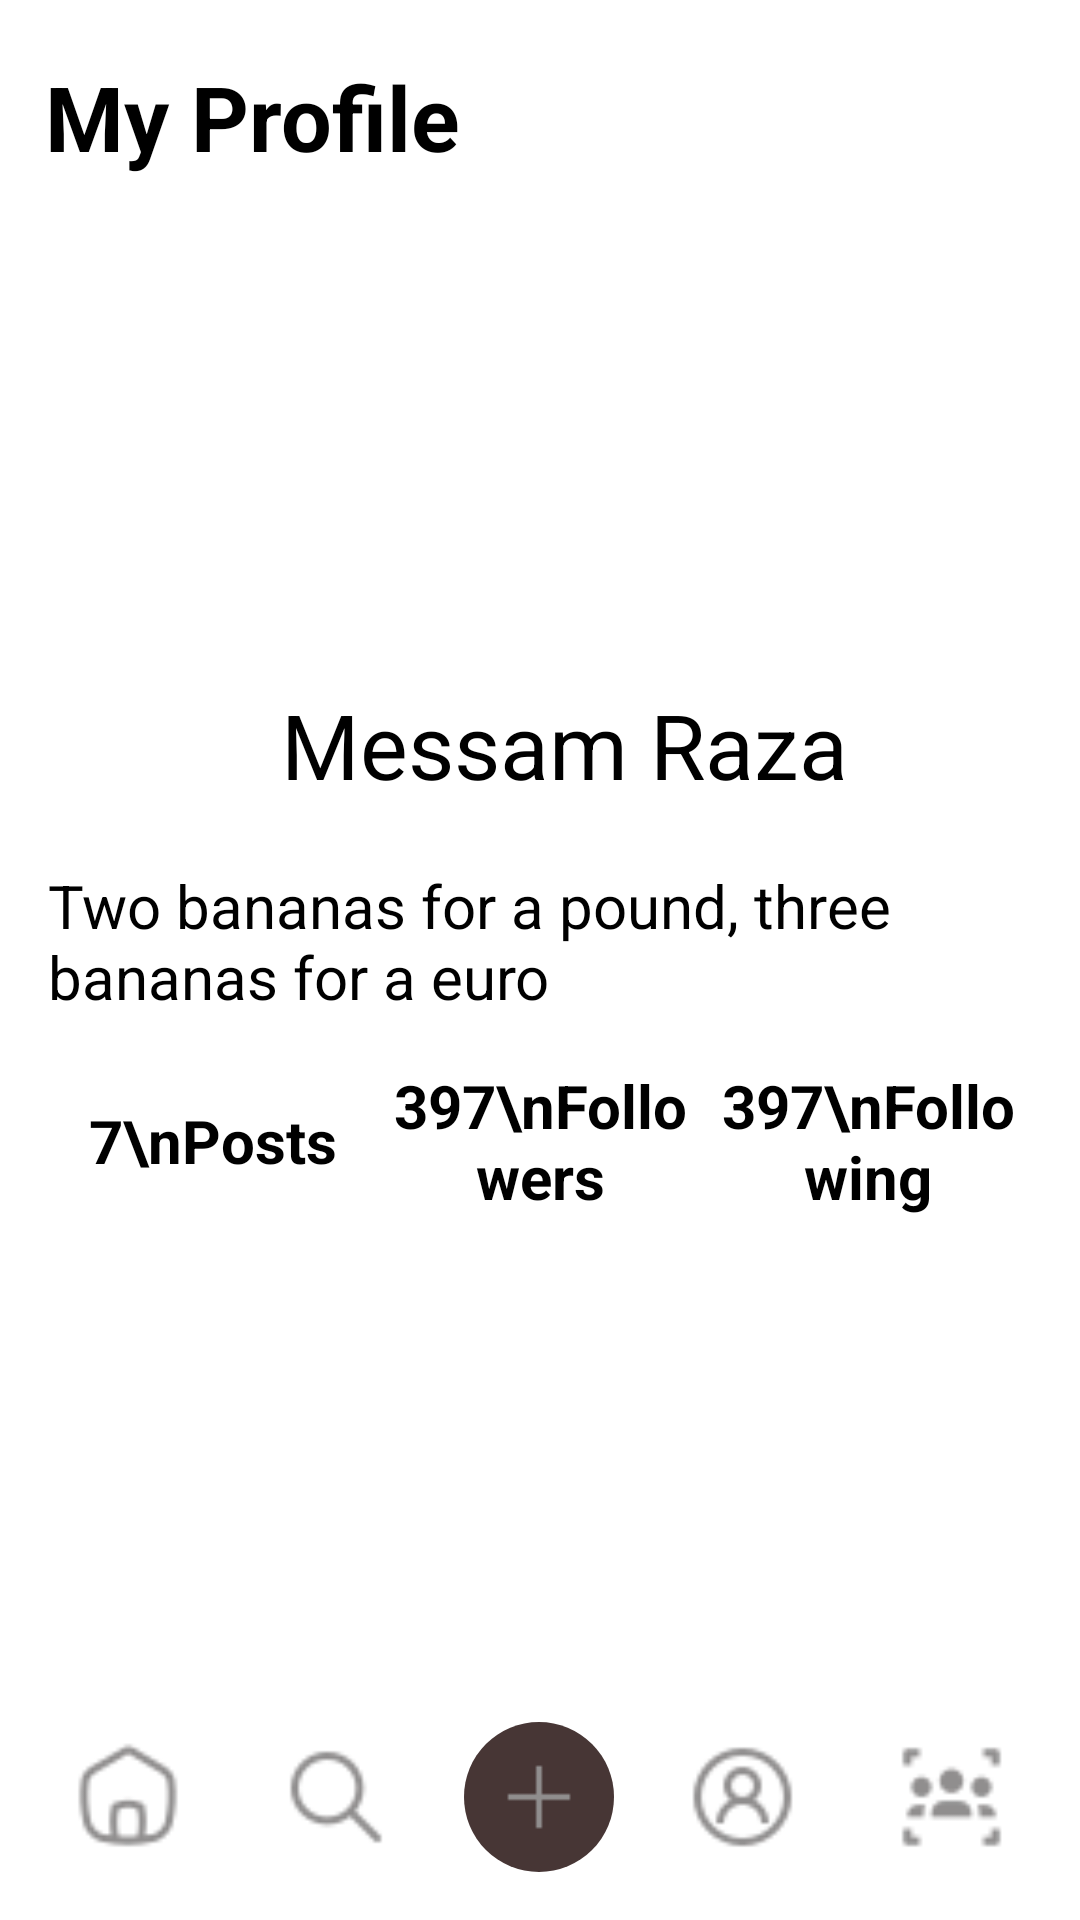

Screen size 1080 × 1920. Icon name, then its center in pixels as (x=x, y=y):
Add Post: (x=539, y=1797)
Contacts: (x=951, y=1797)
Home: (x=128, y=1796)
Profile: (x=742, y=1797)
Search: (x=336, y=1797)
